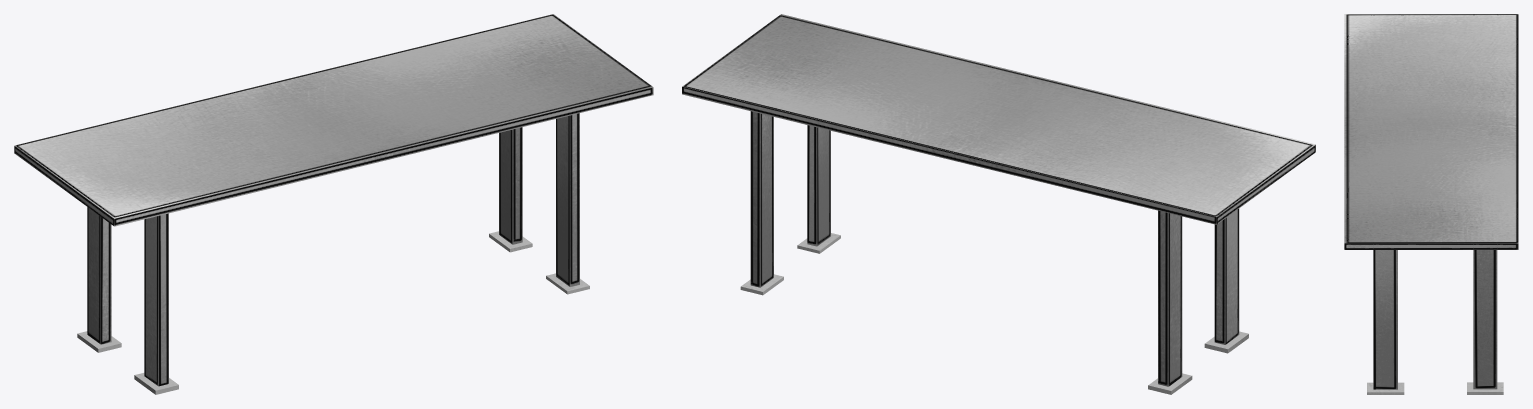
Rendered from MetalWorkBench1.FBX.
3 renders of one model, left to right at view 1: azimuth 30°, elevation 25°; view 2: azimuth 150°, elevation 25°; view 3: azimuth 270°, elevation 25°, orthographic. The views are drawn at different scales.
Visible parts, largest first — view 1: MetalWorkBench1; view 2: MetalWorkBench1; view 3: MetalWorkBench1.
Boxes of the visible parts, left/top/right/bottom form: MetalWorkBench1: left=14, top=14, right=653, bottom=394; MetalWorkBench1: left=682, top=14, right=1315, bottom=394; MetalWorkBench1: left=1344, top=14, right=1518, bottom=394.
Bounding box in the file's own units: 97.35 × 34.32 × 31.32.
Materials: 1 (1 with a texture image).
